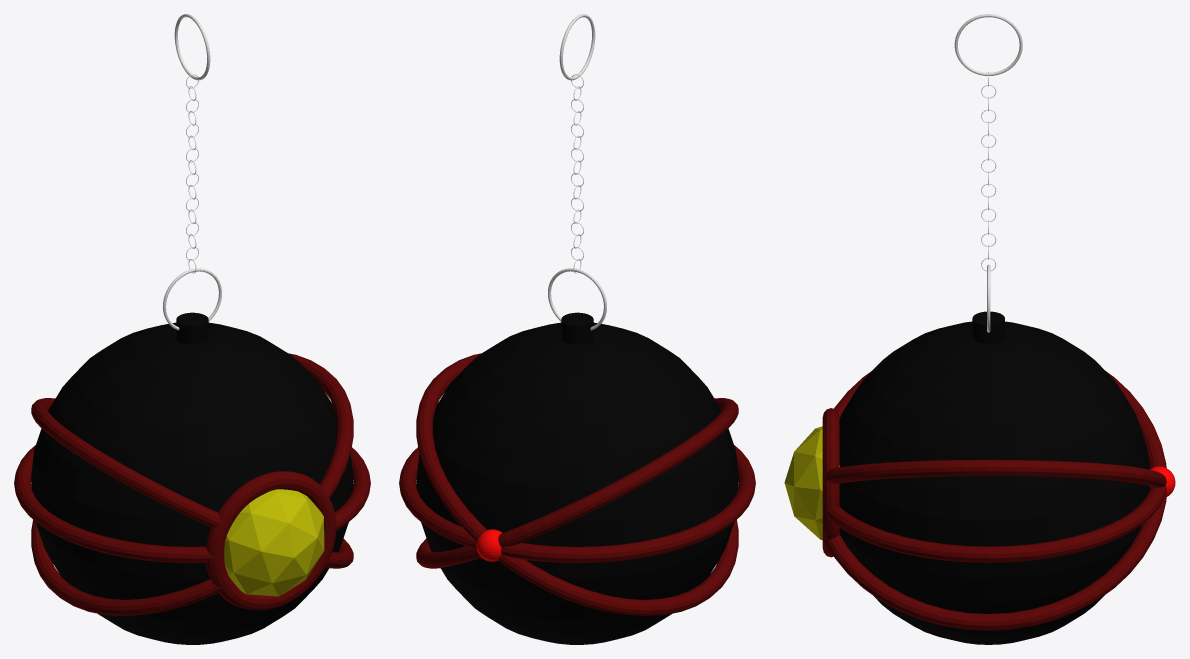
Rendered from sfera1.glb.
3 views of the same model, side by side, from view 1: azimuth 30°, elevation 25°; view 2: azimuth 150°, elevation 25°; view 3: azimuth 270°, elevation 25° (orthographic).
Visible parts, largest first — view 1: Sphere, Icosphere, Torus.003, Torus.023, Torus.020, Torus.021, Cylinder, Torus.018, Torus.019; view 2: Sphere, Torus.003, Torus.020, Torus.021, Cylinder, Sphere.002, Torus.018, Torus.019; view 3: Sphere, Torus.021, Torus.020, Torus.003, Icosphere, Torus.023, Cylinder, Torus.018.
Boxes of the visible parts, x1,y1,x2,y2 form: Sphere: (31,322,353,644); Icosphere: (224,489,324,596); Torus.003: (31,353,353,616); Torus.023: (206,471,336,610); Torus.020: (14,445,370,563); Torus.021: (31,398,353,568); Cylinder: (176,312,208,344); Torus.018: (174,14,210,80); Torus.019: (163,268,221,330); Sphere: (416,322,738,644); Torus.003: (416,353,738,616); Torus.020: (399,445,755,563); Torus.021: (416,398,738,568); Cylinder: (561,312,593,344); Sphere.002: (476,529,502,561); Torus.018: (559,14,595,80); Torus.019: (548,268,606,330); Sphere: (839,321,1149,644); Torus.021: (824,371,1166,630); Torus.020: (823,485,1166,562); Torus.003: (823,459,1166,487); Icosphere: (784,426,839,540); Torus.023: (822,408,839,557); Cylinder: (972,311,1004,343); Torus.018: (954,14,1022,75).
Size of the model in its own units: 2.21 by 4.18 by 2.41.
